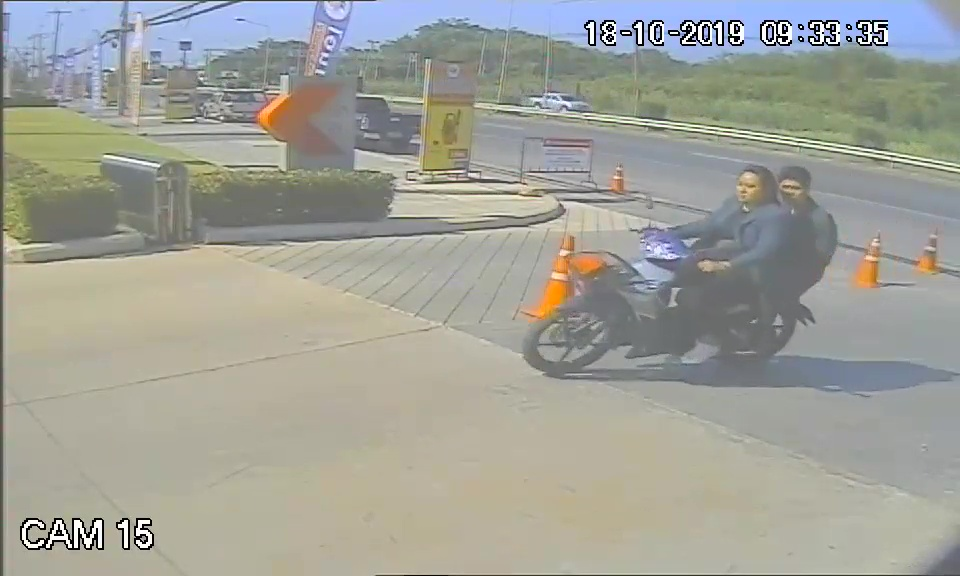motorcycle: (520, 227, 818, 385)
